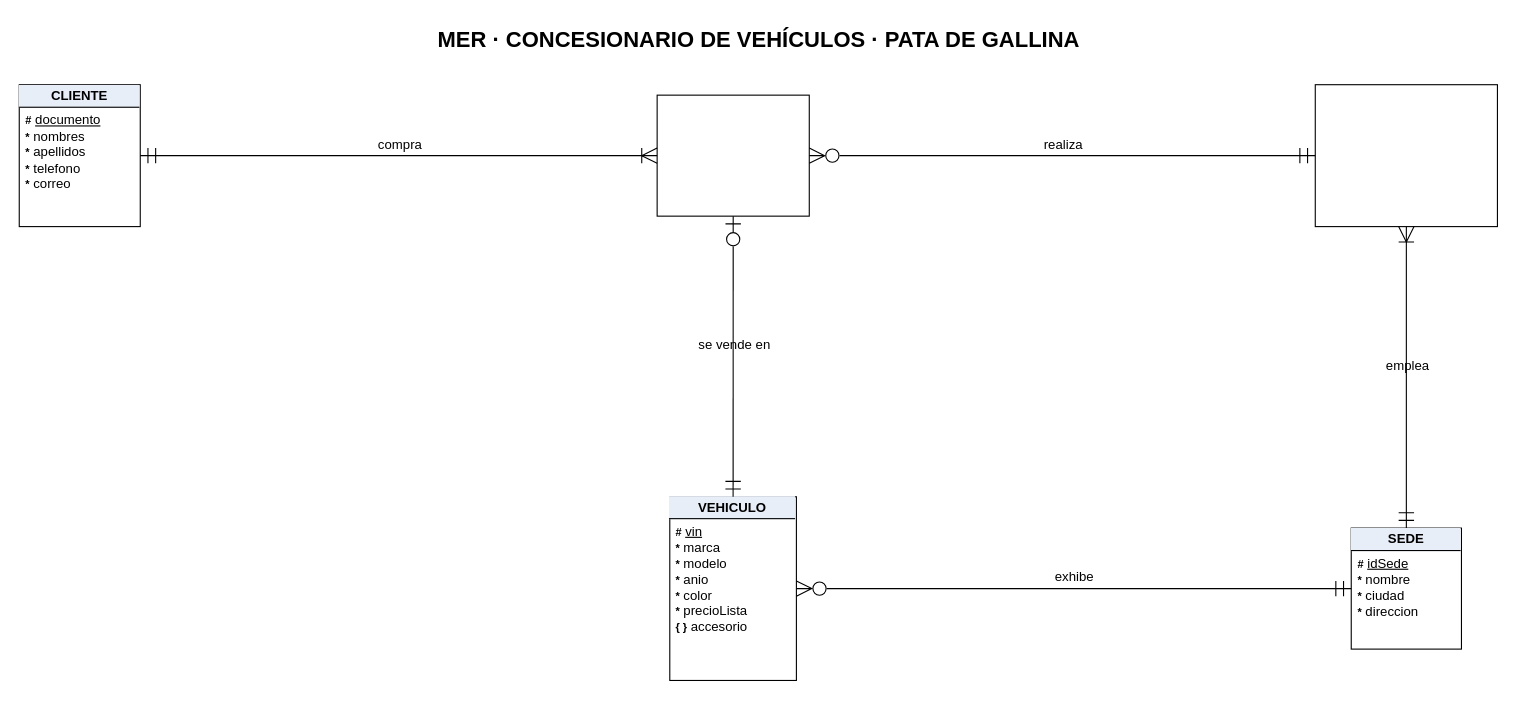
Image size: 1517x701. Some labels were removed from this diagram. Each missing label, with the centre of its shape:
VENDEDOR # idVendedor * nombre * porcentajeComision * fechaIngreso / antiguedad: pixel 1405 155
VENTA # numeroFactura * fecha * valorFinal * formaPago: pixel 732 155
